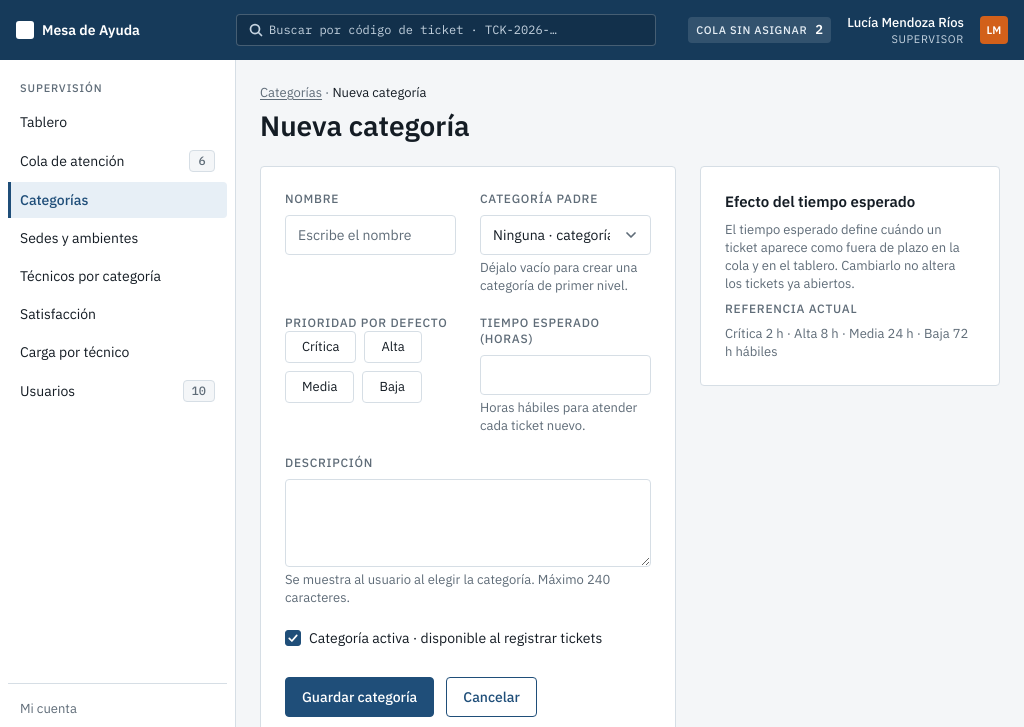
Test: CategoriaFormPage · nueva › resume los campos por revisar y muestra cada error junto a su campo (p13)
Expected: the heading "Nueva categoría" is shown, [260,110,470,142]
Expected: the text "Cola sin asignar" is shown, [696,22,807,38]
Select "Audiovisuales" in the dropdown labelled "Categoría padre". click: [566, 235]
box: [480,215,651,255]
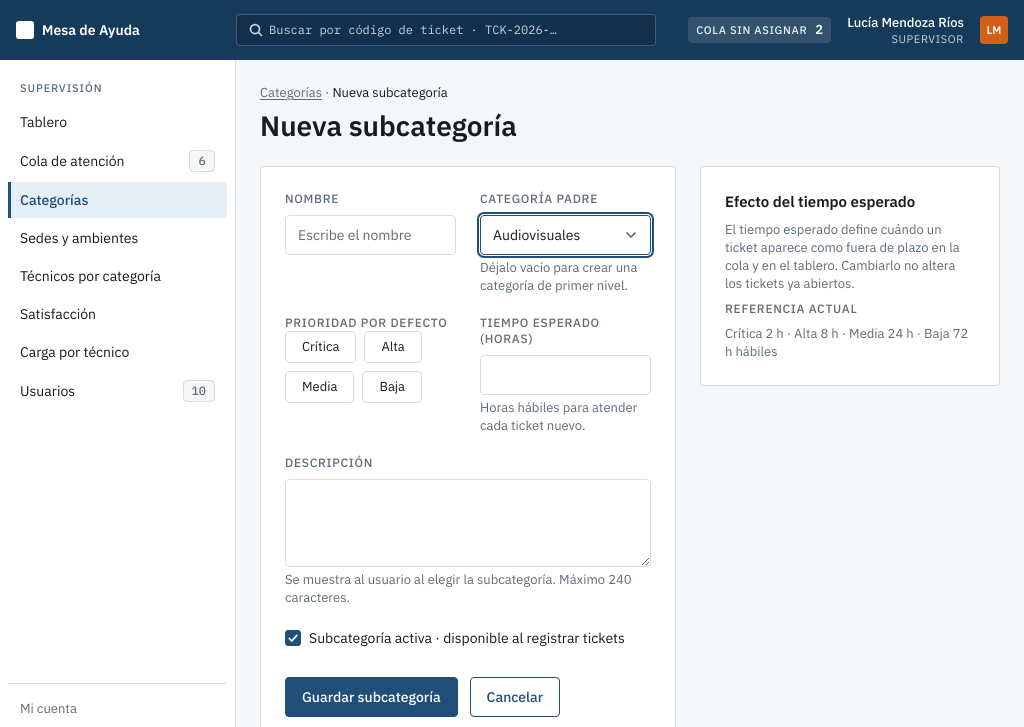
Click the radio button labelled "Crítica". click: [321, 347]
box: [285,331,356,363]
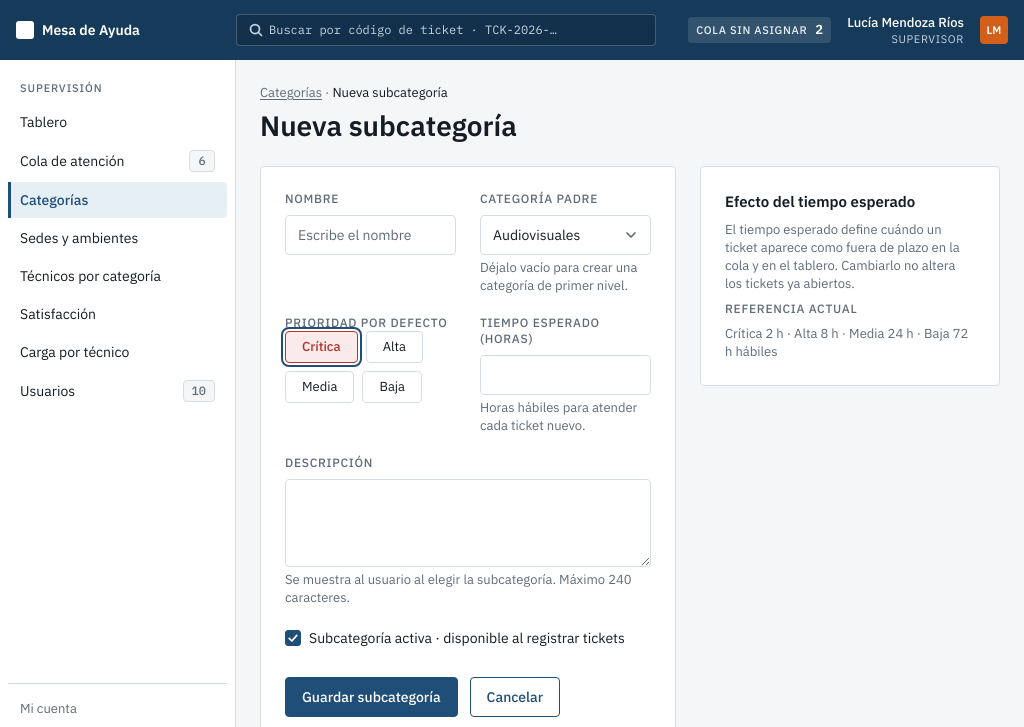
Type "0" into the field labelled "Tiempo esperado (horas)". click: [566, 375]
box: [480,355,651,395]
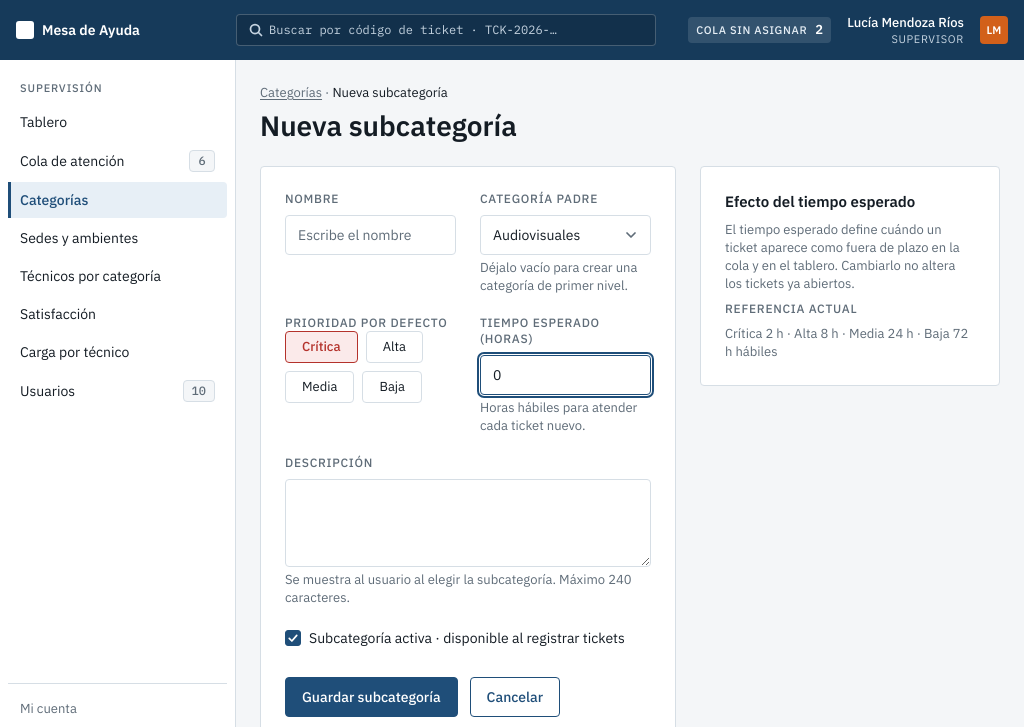
Click the button "Guardar subcategoría". click: [371, 697]
box: [285,677,458,717]
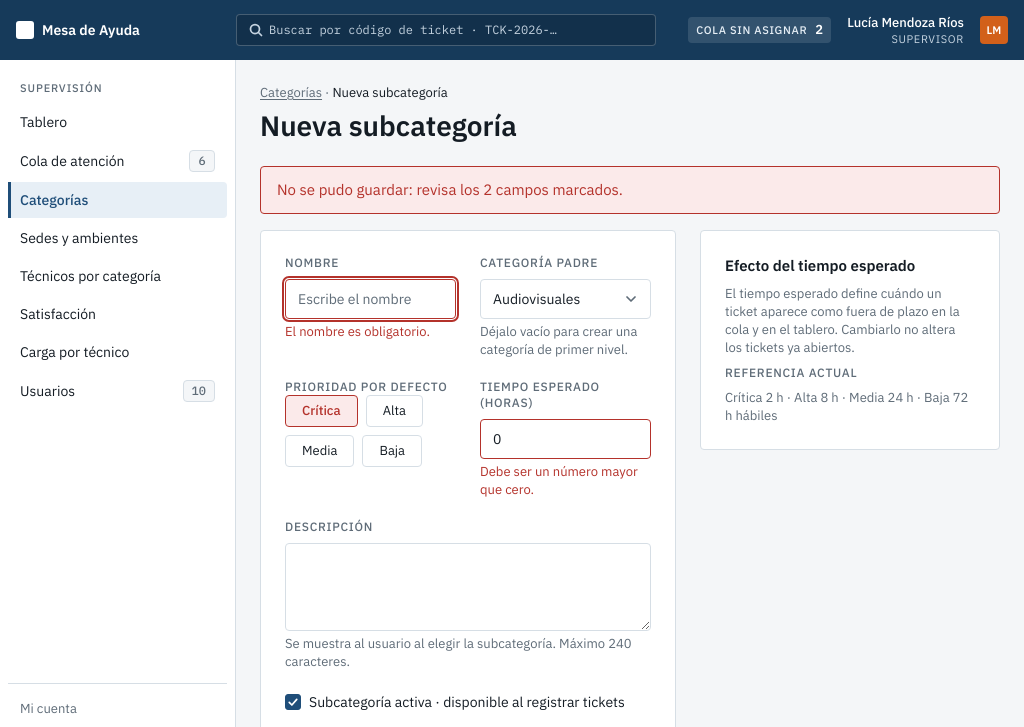
Result: the message reads "No se pudo guardar: revisa los 2 campos marcados." at [260,166,1000,214]
Result: the text "El nombre es obligatorio." is shown at [285,323,430,340]
Result: the text "Debe ser un número mayor que cero." is shown at [480,463,651,499]
Type "Extensor HDMI" into the field labelled "Nombre". click: [370, 299]
box: [285,279,456,319]
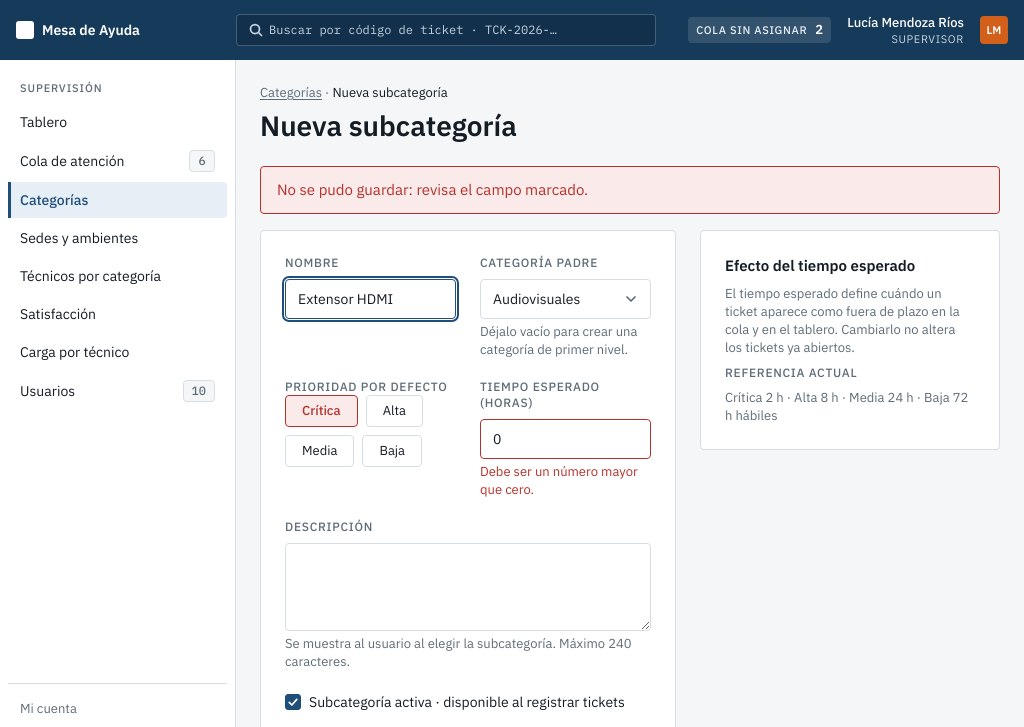
Result: the message reads "No se pudo guardar: revisa el campo marcado." at [260,166,1000,214]
